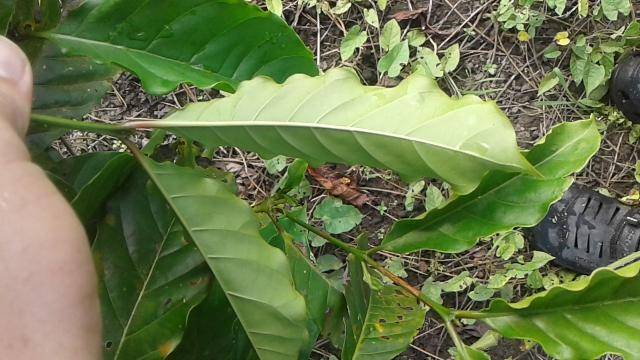healthy: (158, 66, 541, 191)
